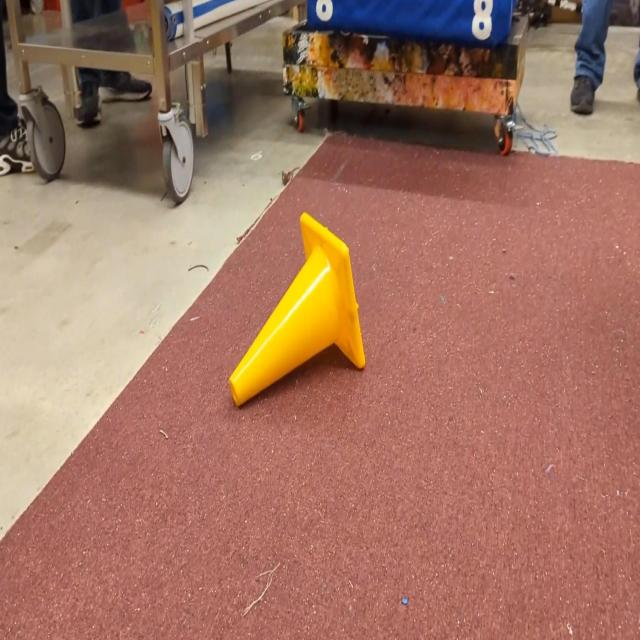frc_cone: (227, 212, 366, 408)
